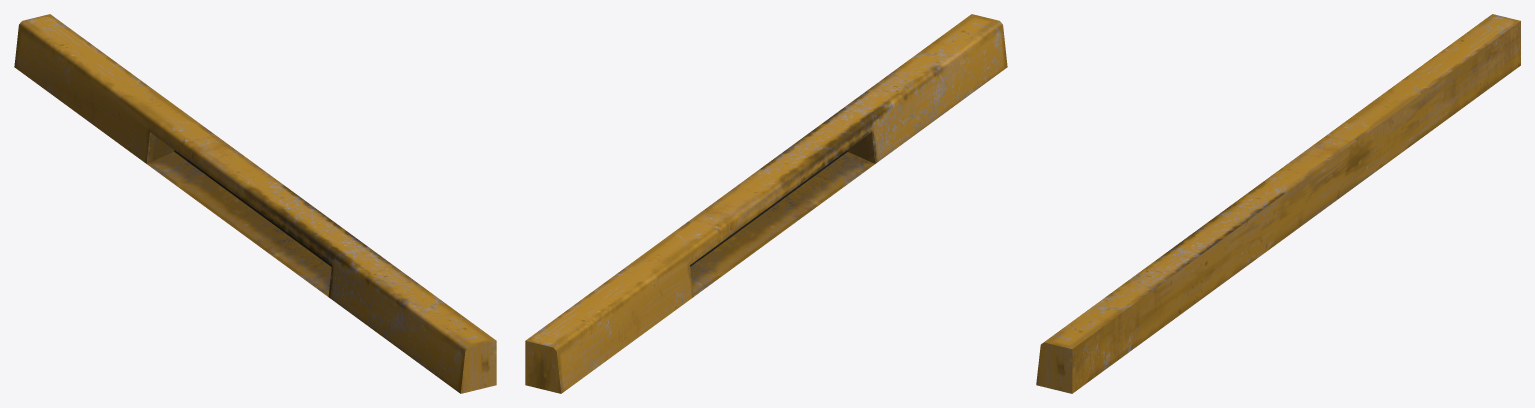
File: MB_Curbstone_Stormwater.fbx
The picture shows the model from 3 angles, left to right: view 1: azimuth 30°, elevation 25°; view 2: azimuth 150°, elevation 25°; view 3: azimuth 330°, elevation 25°; orthographic projection.
Visible parts, largest first — view 1: MB_Curbstone_Stormwater; view 2: MB_Curbstone_Stormwater; view 3: MB_Curbstone_Stormwater.
Part boxes in pixels (x1,y1,x2,y2): MB_Curbstone_Stormwater: [14, 14, 496, 393]; MB_Curbstone_Stormwater: [525, 14, 1007, 393]; MB_Curbstone_Stormwater: [1036, 14, 1520, 393].
Size of the model in its own units: 9.28 by 11 by 200.
